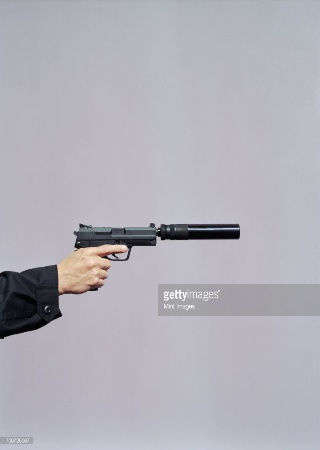handgun: (73, 221, 242, 286)
